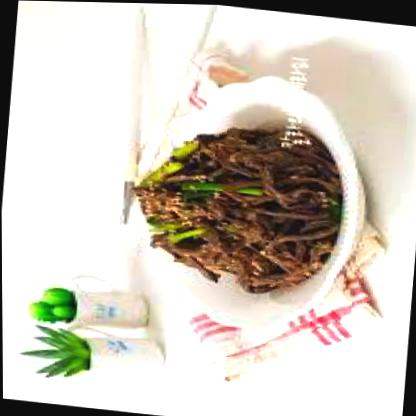seasoned bracken: (131, 120, 330, 284)
